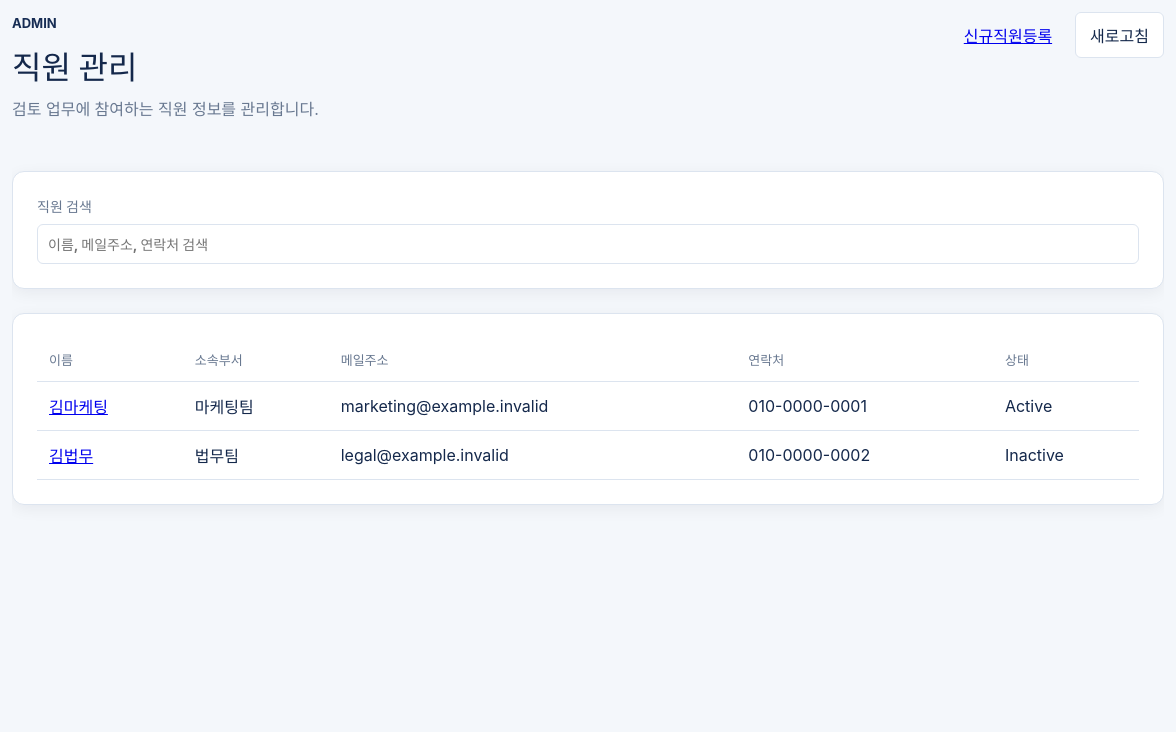
Test: EmployeesPage › filters employees and links names to details
Expected: the heading "직원 관리" is shown, [12,48,137,87]
Expected: the column heading "연락처" is shown, [736,338,993,382]
Type "김법무" into the field labelled "직원 검색" at (588, 244), box [37,224,1139,264]
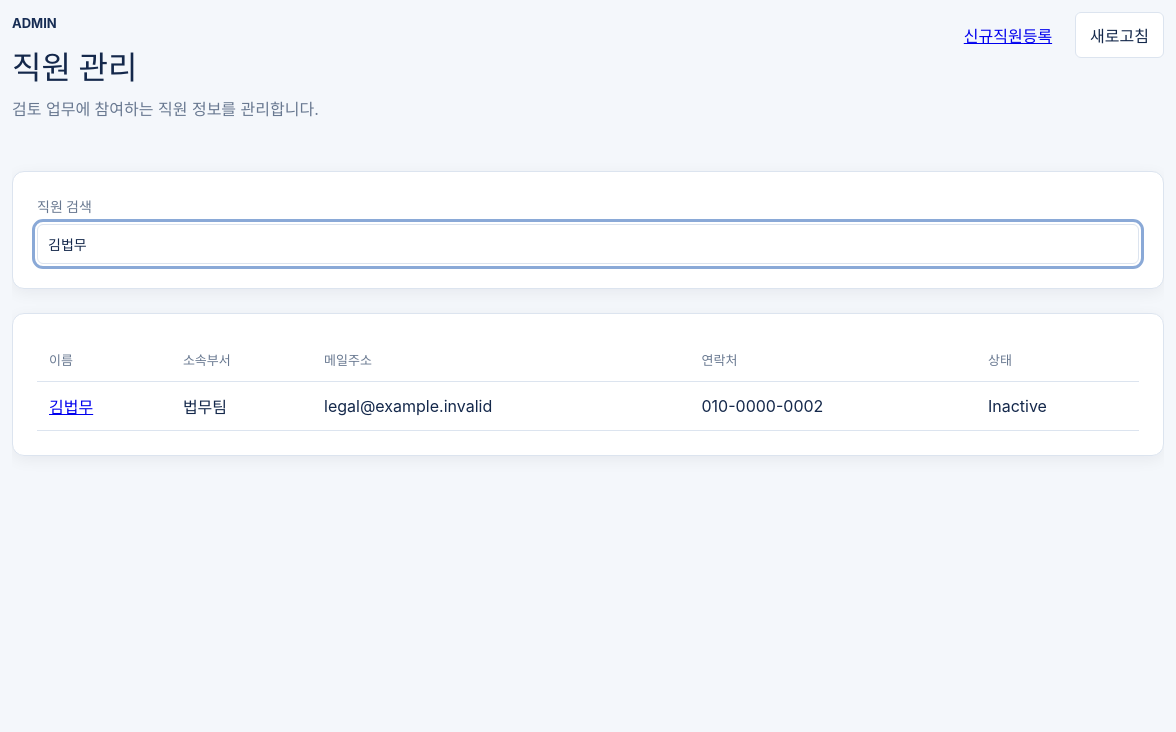
Expected: the link "김법무" is shown, [49,397,93,417]
Now the link "김마케팅" is gone
